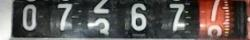digits: (168, 3, 186, 31), (130, 3, 147, 30), (56, 3, 73, 30), (205, 0, 224, 22), (21, 4, 37, 30), (94, 18, 111, 40)
